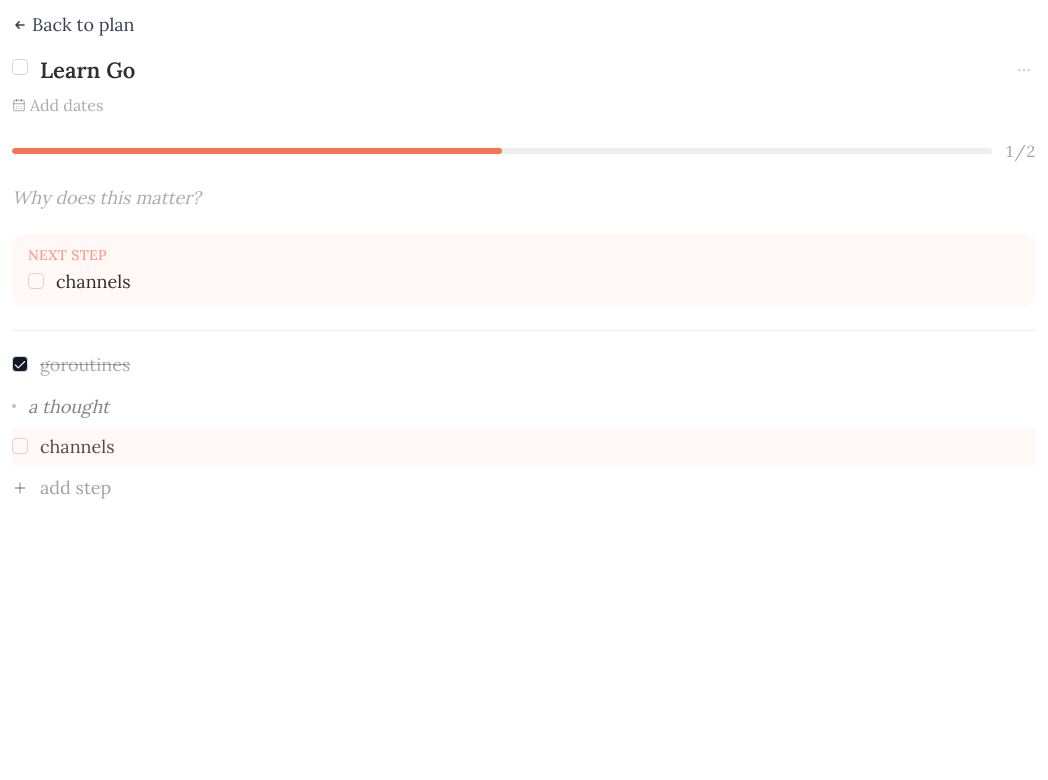
Test: MilestonePage steps and next step › rename (R30) › should revert a failed rename and show the existing error (R32)
Click the button "channels": x=77, y=446 [40,435,1036,459]
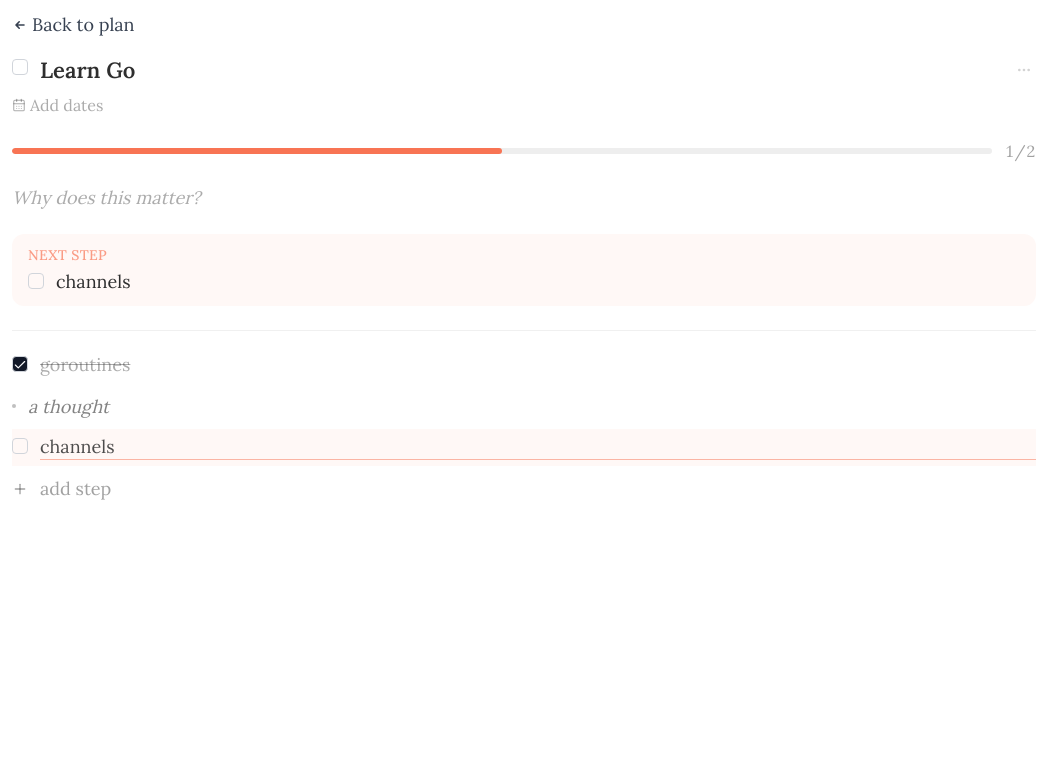
Replace the text in the field named "Rename channels" with "chans": x=538, y=448 [40,435,1036,460]
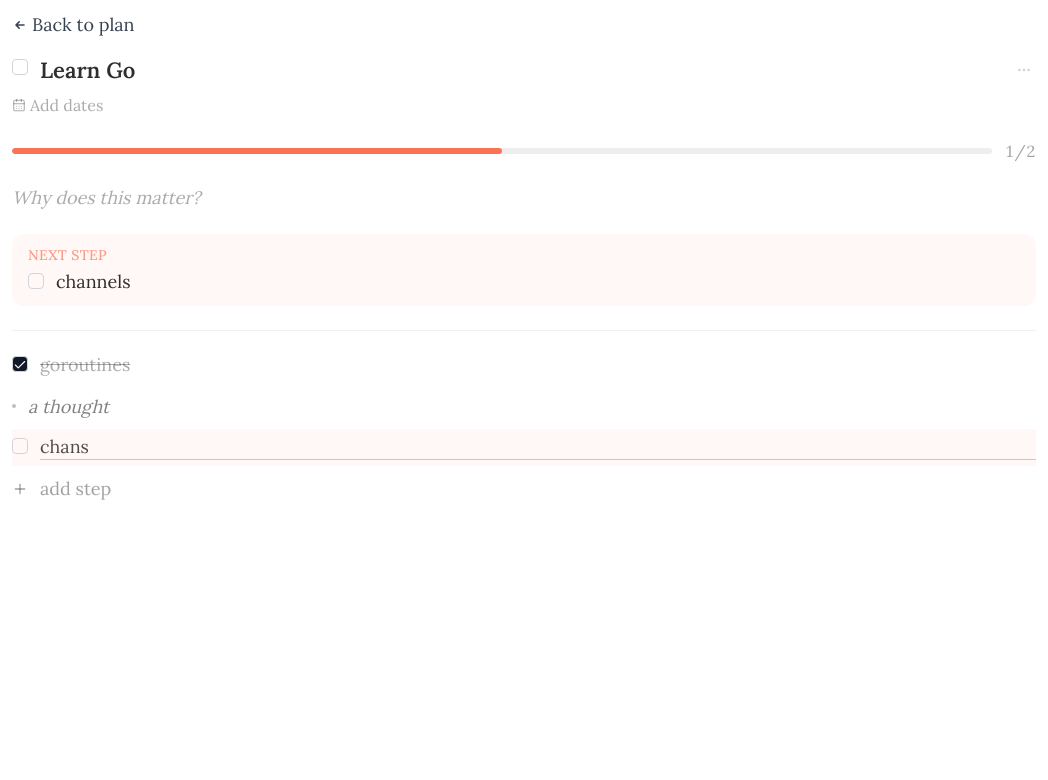
Press Enter in the field named "Rename channels", box [40,435,1036,460]
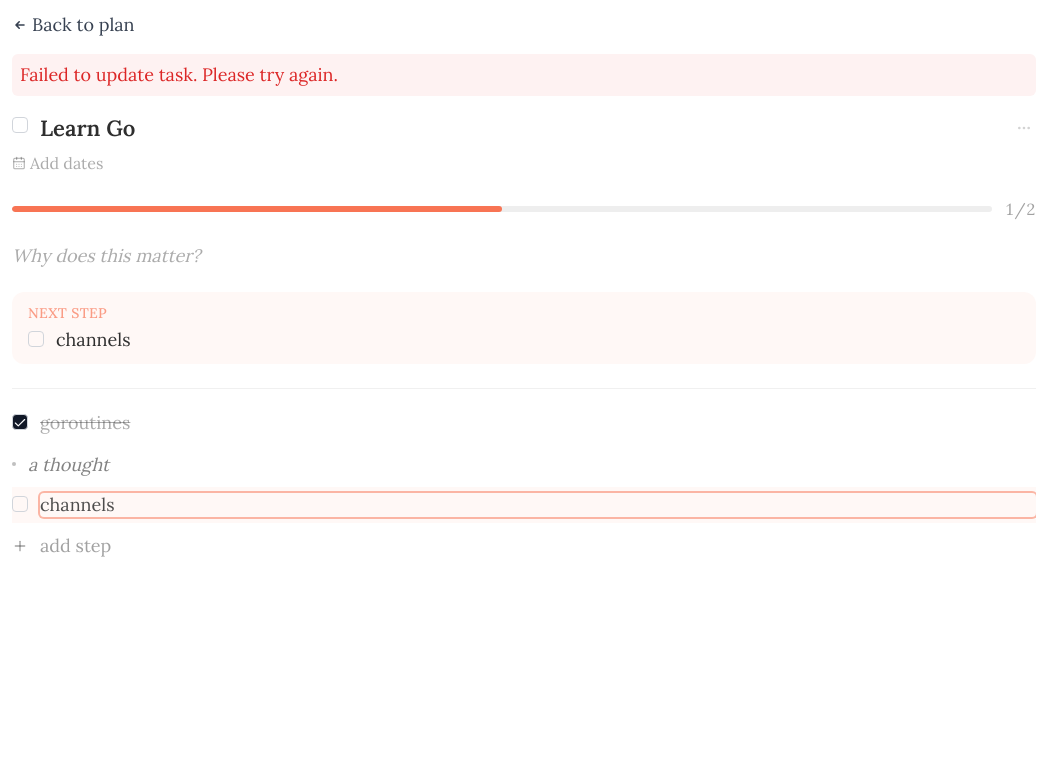
expect the button "channels" is shown: met, box [40,493,1036,517]
expect the text "Failed to update task. Please try again." is shown: met, box [12,54,1036,96]
